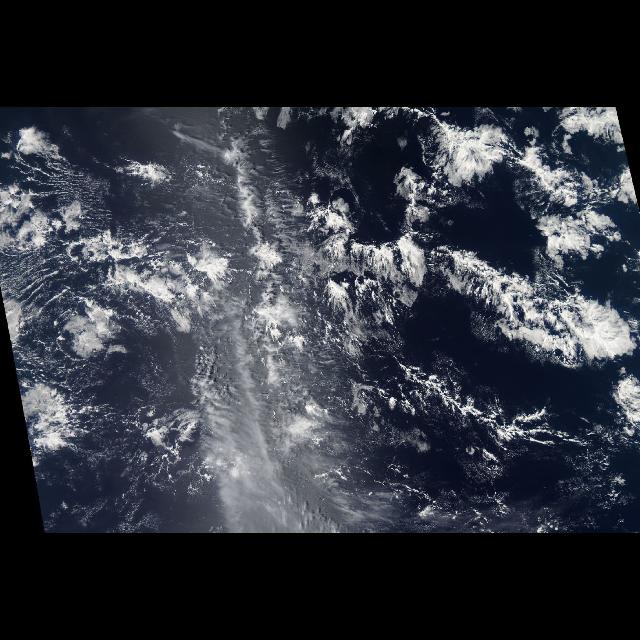Fish: (322, 199, 640, 475)
